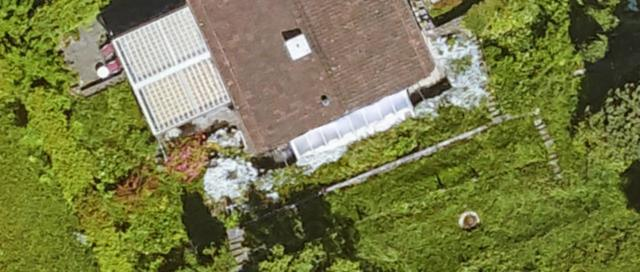tree: (256, 239, 358, 272), (601, 77, 640, 153), (202, 243, 231, 263)
